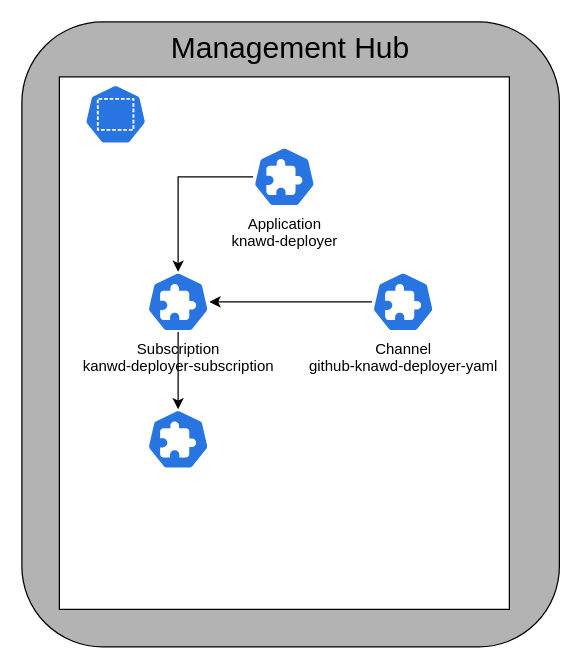
Image size: 581x669. Some labels were removed from this diagram. The shapes that lost their labels are listed below. From the top down, each one's centre as x and y in pixels, then its label:
point (115, 113): knawd
point (177, 438): Placement Rule wasm-clusters
